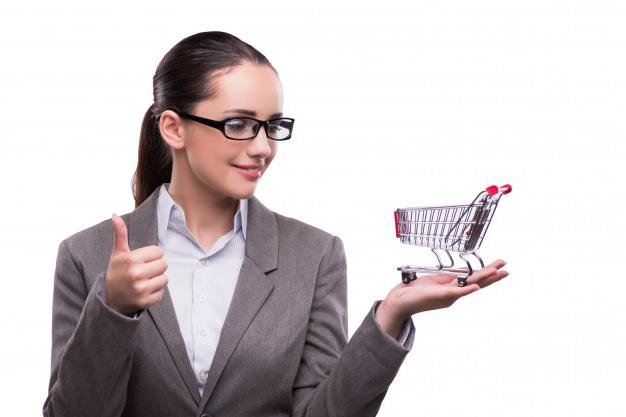thumbsup: (111, 212, 169, 309)
